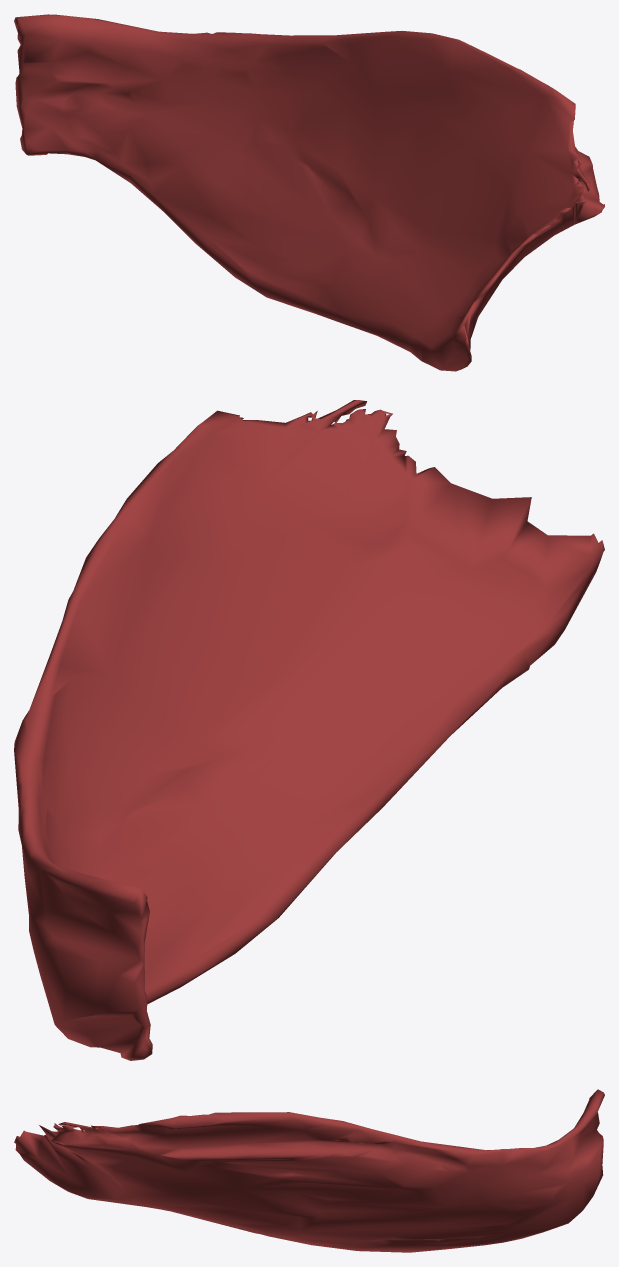
Rendered from pubo-analis-muscle-l.glb.
3 renders of one model, top to bottom at view 1: azimuth 30°, elevation 25°; view 2: azimuth 150°, elevation 25°; view 3: azimuth 270°, elevation 25°, orthographic. The views are drawn at different scales.
Parts seen in each view (by area): view 1: Pubo-analis muscle.l; view 2: Pubo-analis muscle.l; view 3: Pubo-analis muscle.l.
Boxes of the visible parts, box(x1,y1,x2,y2) form: Pubo-analis muscle.l: box(14, 14, 604, 371); Pubo-analis muscle.l: box(14, 400, 604, 1060); Pubo-analis muscle.l: box(14, 1089, 604, 1252).
Size of the model in its own units: 0.0304 by 0.0302 by 0.0843.
